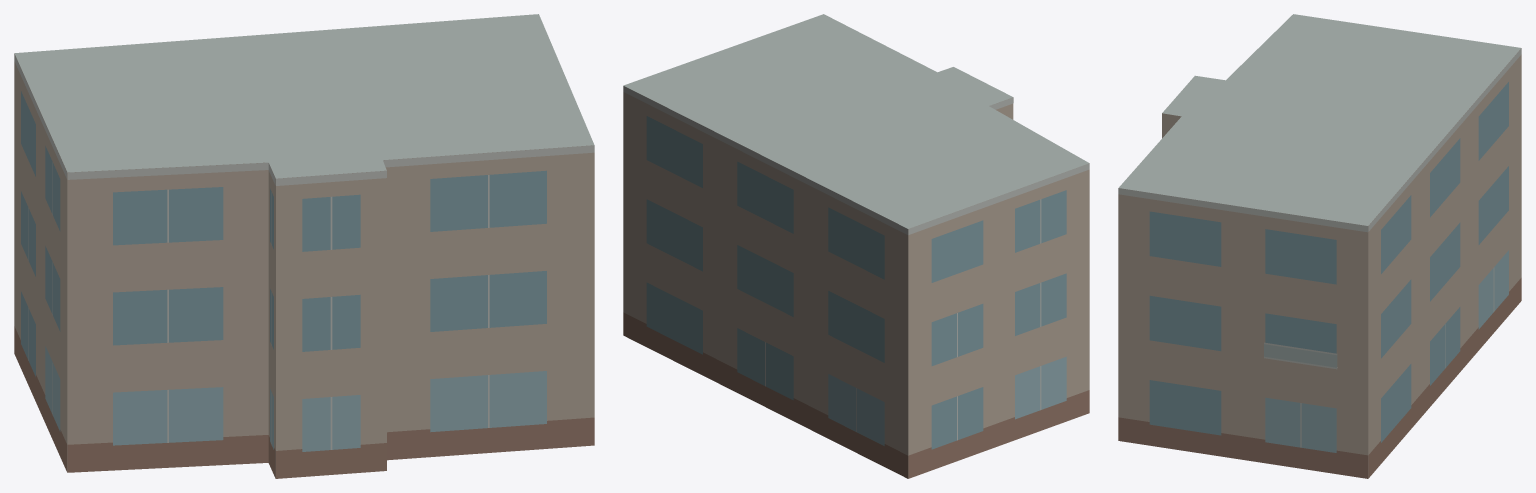
File: survey-upis-32889806.glb
The picture shows the model from 3 angles, left to right: view 1: azimuth 30°, elevation 25°; view 2: azimuth 150°, elevation 25°; view 3: azimuth 270°, elevation 25°; orthographic projection. The views are drawn at different scales.
Parts seen in each view (by area): view 1: survey-upis-32889806.tmp; view 2: survey-upis-32889806.tmp; view 3: survey-upis-32889806.tmp.
Part boxes in pixels (x1,y1,x2,y2): survey-upis-32889806.tmp: (14, 14, 594, 478); survey-upis-32889806.tmp: (623, 14, 1089, 478); survey-upis-32889806.tmp: (1118, 14, 1521, 478).
Size of the model in its own units: 17.63 by 9.8 by 14.17.
